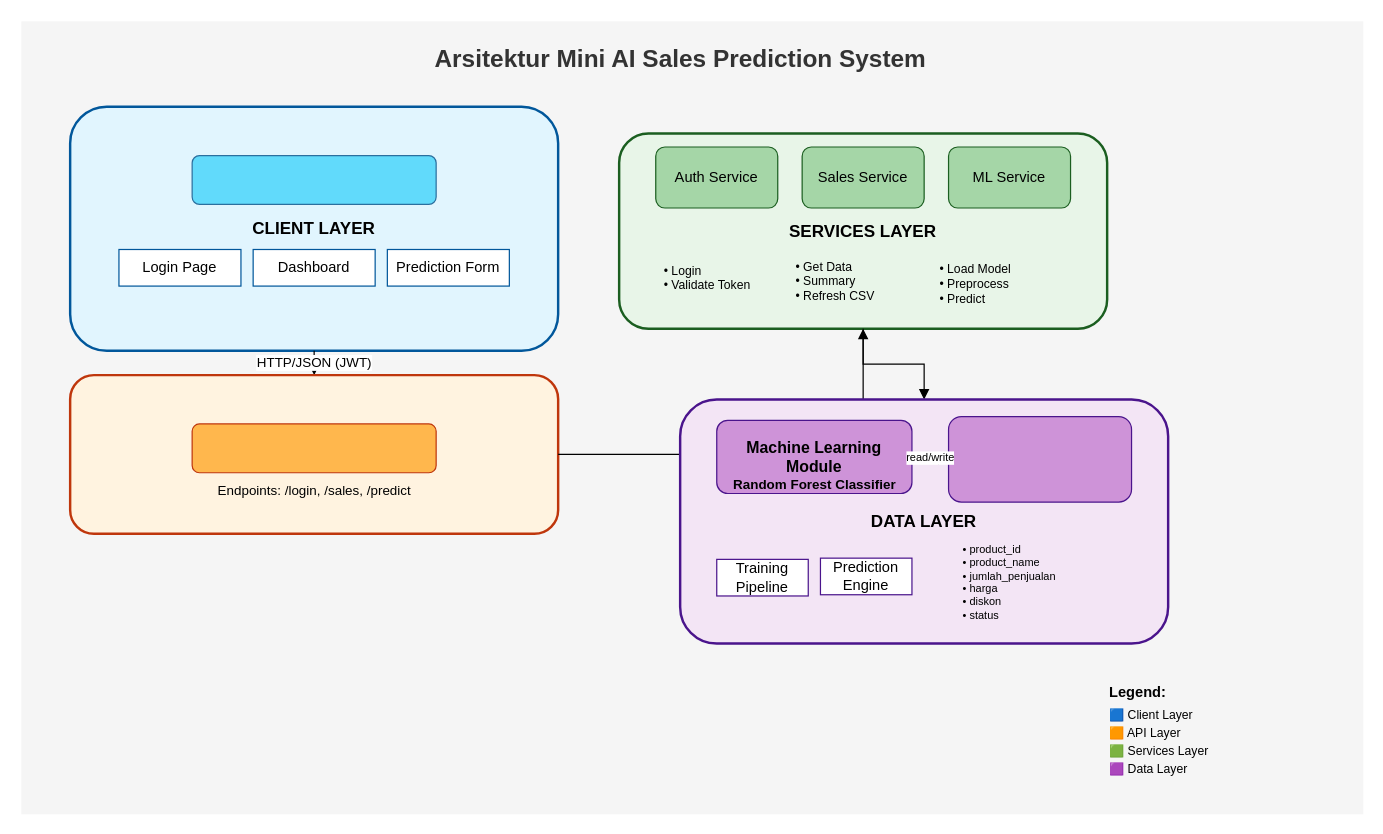
Image size: 1383x834. Some labels were removed from this diagram. The centre of each missing label's shape, as x and y in pixels:
"CSV Data Source" goes at (x=1039, y=458).
"FastAPI Server" goes at (x=313, y=448).
"React/Next.js Frontend" goes at (x=313, y=179).
